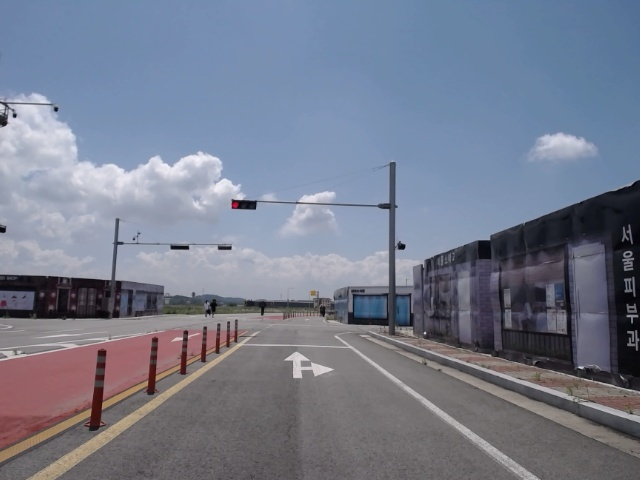red_3: (230, 199, 258, 211)
